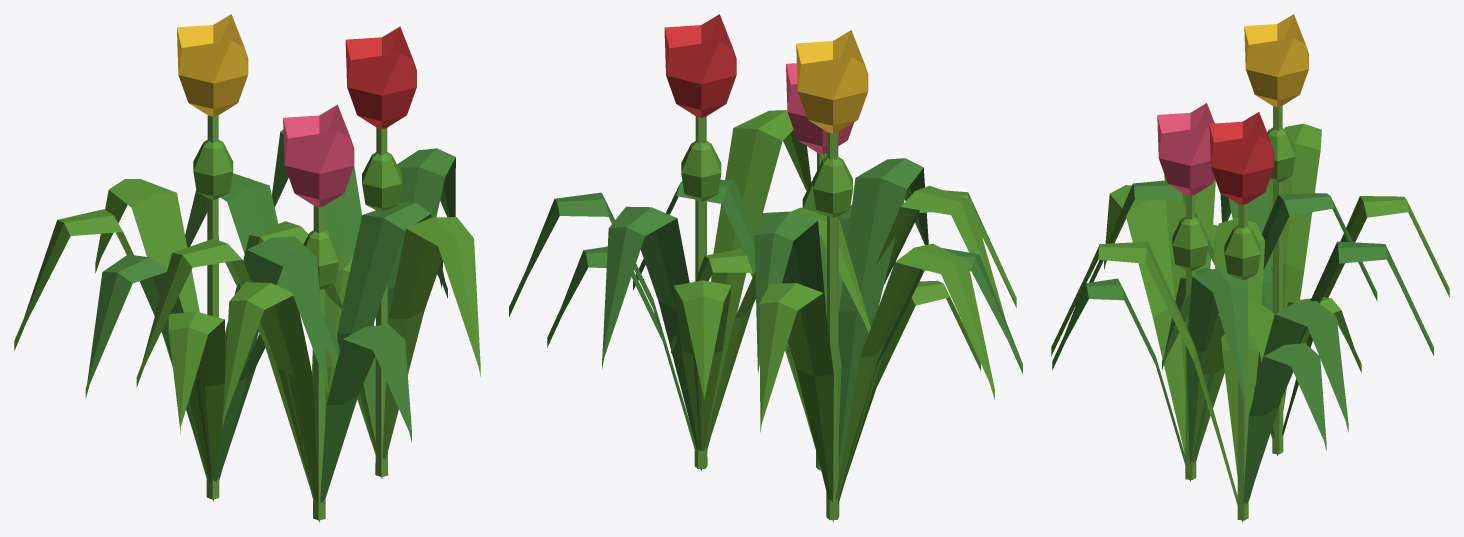
The model's file is Crop_Tulip.fbx.
3 renders of one model, left to right at view 1: azimuth 30°, elevation 25°; view 2: azimuth 150°, elevation 25°; view 3: azimuth 270°, elevation 25°, orthographic. The views are drawn at different scales.
Parts seen in each view (by area): view 1: Tulip_Stage2, Tulip_Stage1, Tulip_Stage0; view 2: Tulip_Stage2, Tulip_Stage1, Tulip_Stage0; view 3: Tulip_Stage2, Tulip_Stage1, Tulip_Stage0.
Part boxes in pixels (x1=…): Tulip_Stage2: x1=14, y1=14, x2=480, y2=521; Tulip_Stage1: x1=85, y1=140, x2=455, y2=520; Tulip_Stage0: x1=168, y1=255, x2=443, y2=522; Tulip_Stage2: x1=602, y1=14, x2=1005, y2=521; Tulip_Stage1: x1=509, y1=141, x2=1022, y2=520; Tulip_Stage0: x1=547, y1=205, x2=980, y2=476; Tulip_Stage2: x1=1051, y1=14, x2=1433, y2=522; Tulip_Stage1: x1=1104, y1=127, x2=1449, y2=480; Tulip_Stage0: x1=1052, y1=224, x2=1361, y2=521.
Size of the model in its own units: 0.8878 by 0.8736 by 0.7327.
